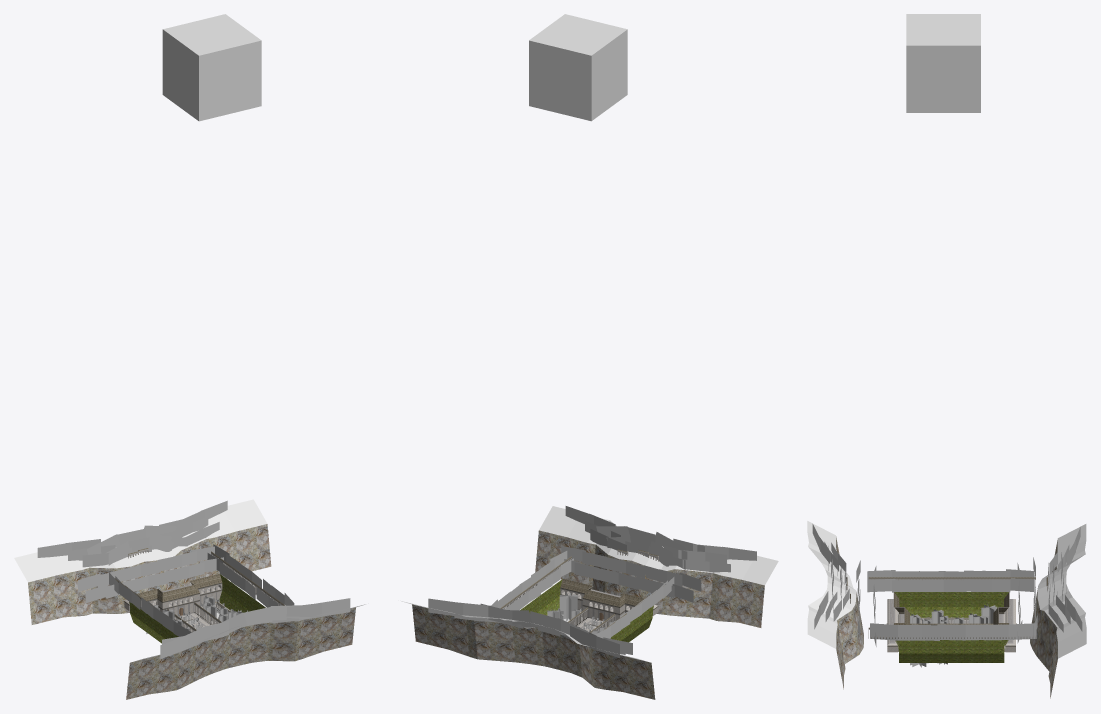
Rendered from GARDEN 4.fbx.
The picture shows the model from 3 angles, left to right: view 1: azimuth 30°, elevation 25°; view 2: azimuth 150°, elevation 25°; view 3: azimuth 270°, elevation 25°; orthographic projection. The views are drawn at different scales.
Parts seen in each view (by area): view 1: MOUNTAIN SIDE, VEGITATION.001, Cube, CONCRETE GROUND, arch.001, Tree.001; view 2: MOUNTAIN SIDE, VEGITATION.001, Cube, CONCRETE GROUND, arch.001, Tree.001; view 3: VEGITATION.001, MOUNTAIN SIDE, Cube, CONCRETE GROUND, arch.001, Tree.001.
Boxes of the visible parts, bbox=[...] form: MOUNTAIN SIDE: bbox=[14, 499, 365, 699]; VEGITATION.001: bbox=[37, 500, 350, 659]; Cube: bbox=[162, 14, 261, 121]; CONCRETE GROUND: bbox=[124, 573, 265, 643]; arch.001: bbox=[115, 548, 284, 632]; Tree.001: bbox=[146, 596, 247, 633]; MOUNTAIN SIDE: bbox=[401, 506, 778, 699]; VEGITATION.001: bbox=[428, 506, 756, 658]; Cube: bbox=[529, 14, 627, 121]; CONCRETE GROUND: bbox=[520, 578, 658, 642]; arch.001: bbox=[500, 549, 663, 633]; Tree.001: bbox=[547, 592, 614, 634]; VEGITATION.001: bbox=[812, 524, 1082, 646]; MOUNTAIN SIDE: bbox=[807, 521, 1086, 698]; Cube: bbox=[906, 14, 980, 112]; CONCRETE GROUND: bbox=[886, 592, 1016, 662]; arch.001: bbox=[846, 577, 1047, 638]; Tree.001: bbox=[910, 604, 997, 667].
Bounding box in the file's own units: 273 × 644 × 262.
